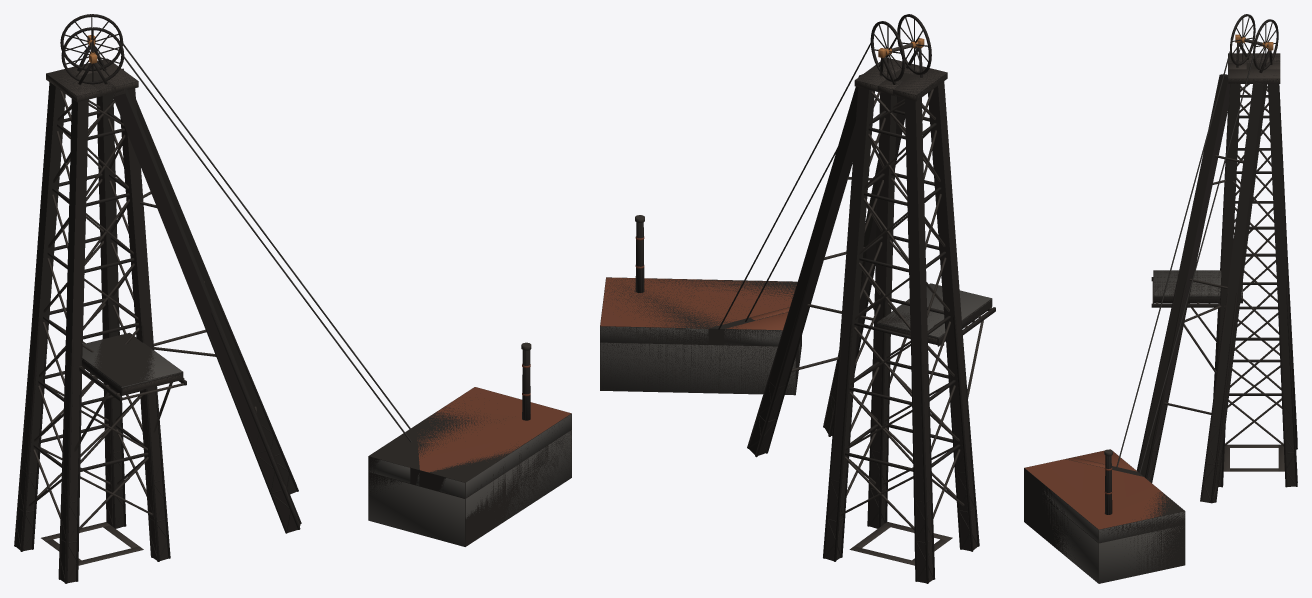
The model's file is landmark_headframe.glb.
3 views of the same model, side by side, from view 1: azimuth 30°, elevation 25°; view 2: azimuth 150°, elevation 25°; view 3: azimuth 270°, elevation 25° (orthographic). The views are drawn at different scales.
Visible parts, largest first — view 1: landmark_headframe, landmark_headframe-col-col; view 2: landmark_headframe, landmark_headframe-col-col; view 3: landmark_headframe, landmark_headframe-col-col.
Boxes of the visible parts, left/top/right/bottom form: landmark_headframe: left=14, top=14, right=571, bottom=583; landmark_headframe-col-col: left=16, top=59, right=571, bottom=582; landmark_headframe: left=600, top=14, right=995, bottom=583; landmark_headframe-col-col: left=600, top=58, right=992, bottom=583; landmark_headframe: left=1025, top=14, right=1297, bottom=583; landmark_headframe-col-col: left=1024, top=53, right=1295, bottom=583.
Size of the model in its own units: 114 by 132 by 73.22.
